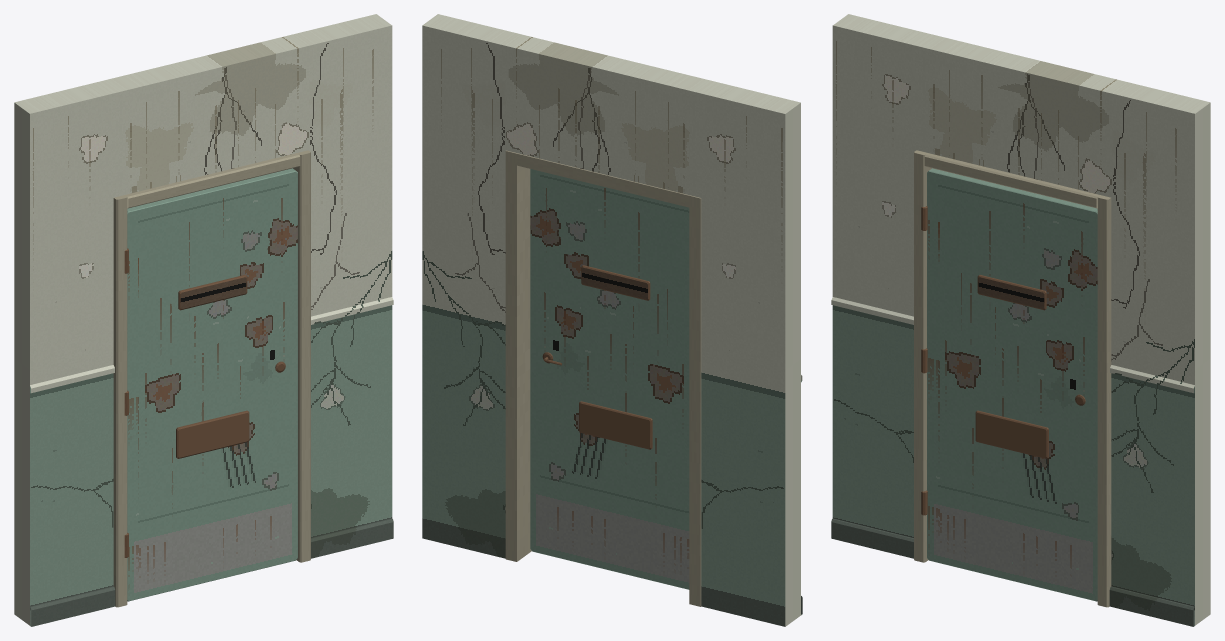
Rendered from door_4c.glb.
The picture shows the model from 3 angles, left to right: view 1: azimuth 30°, elevation 25°; view 2: azimuth 150°, elevation 25°; view 3: azimuth 330°, elevation 25°; orthographic projection.
Visible parts, largest first — view 1: leaf_edge, wall_left, wall_right, wall_lintel, frame_left, frame_right, frame_top, food_hatch_front, observation_flap_front; view 2: leaf_edge, wall_left, wall_right, wall_lintel, frame_right, frame_left, food_hatch_back, frame_top, observation_flap_back; view 3: leaf_edge, wall_right, wall_left, wall_lintel, frame_right, frame_left, frame_top, food_hatch_front, observation_flap_front.
Part boxes in pixels (x1=…): leaf_edge: x1=127, y1=168, x2=297, y2=601; wall_left: x1=14, y1=81, x2=115, y2=626; wall_right: x1=291, y1=14, x2=393, y2=558; wall_lintel: x1=100, y1=35, x2=305, y2=196; frame_left: x1=113, y1=195, x2=127, y2=607; frame_right: x1=293, y1=150, x2=310, y2=562; frame_top: x1=125, y1=153, x2=300, y2=208; food_hatch_front: x1=176, y1=410, x2=249, y2=458; observation_flap_front: x1=178, y1=275, x2=247, y2=310; leaf_edge: x1=530, y1=169, x2=689, y2=589; wall_left: x1=699, y1=81, x2=802, y2=626; wall_right: x1=422, y1=14, x2=523, y2=558; wall_lintel: x1=508, y1=35, x2=714, y2=197; frame_right: x1=505, y1=150, x2=531, y2=561; frame_left: x1=689, y1=195, x2=701, y2=606; food_hatch_back: x1=579, y1=401, x2=652, y2=449; frame_top: x1=517, y1=153, x2=689, y2=207; observation_flap_back: x1=581, y1=265, x2=650, y2=300; leaf_edge: x1=927, y1=168, x2=1097, y2=601; wall_right: x1=1109, y1=81, x2=1210, y2=626; wall_left: x1=831, y1=14, x2=933, y2=558; wall_lintel: x1=919, y1=35, x2=1124, y2=196; frame_right: x1=1097, y1=195, x2=1111, y2=607; frame_left: x1=914, y1=150, x2=931, y2=562; frame_top: x1=924, y1=153, x2=1099, y2=208; food_hatch_front: x1=975, y1=410, x2=1048, y2=458; observation_flap_front: x1=977, y1=275, x2=1046, y2=310.
Size of the model in its own units: 2 by 2.7 by 0.1925.
1 material, 1 textured.
